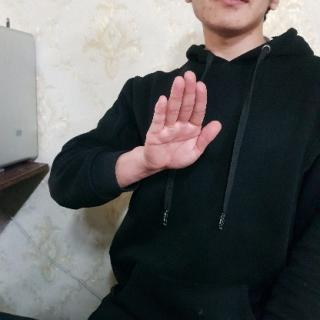SEEN: (138, 68, 229, 180)
